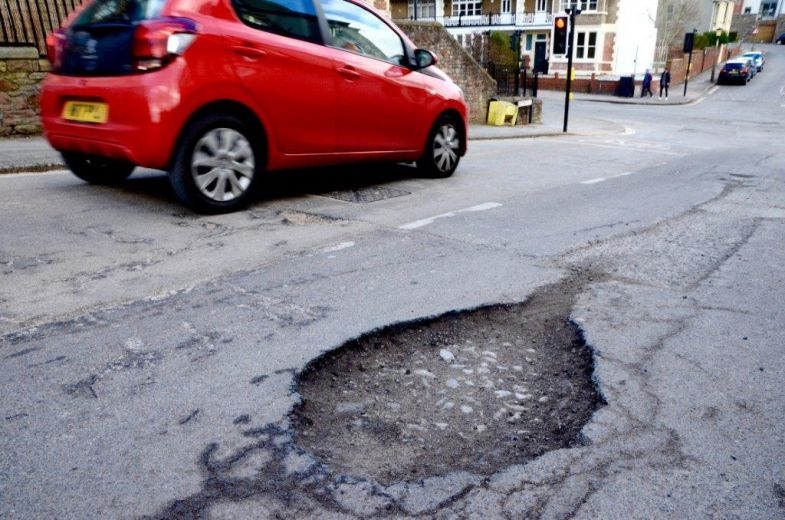pothole: (225, 330, 632, 486)
